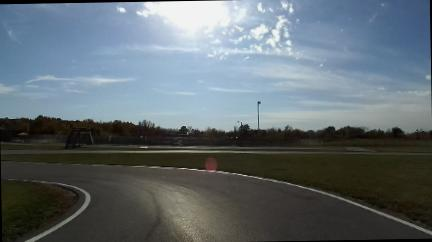Grass: (1, 153, 431, 227), (1, 180, 77, 241), (148, 146, 346, 151), (324, 139, 431, 147), (0, 144, 63, 150), (367, 147, 431, 152)
Lane: (1, 162, 431, 241), (0, 149, 431, 155)
